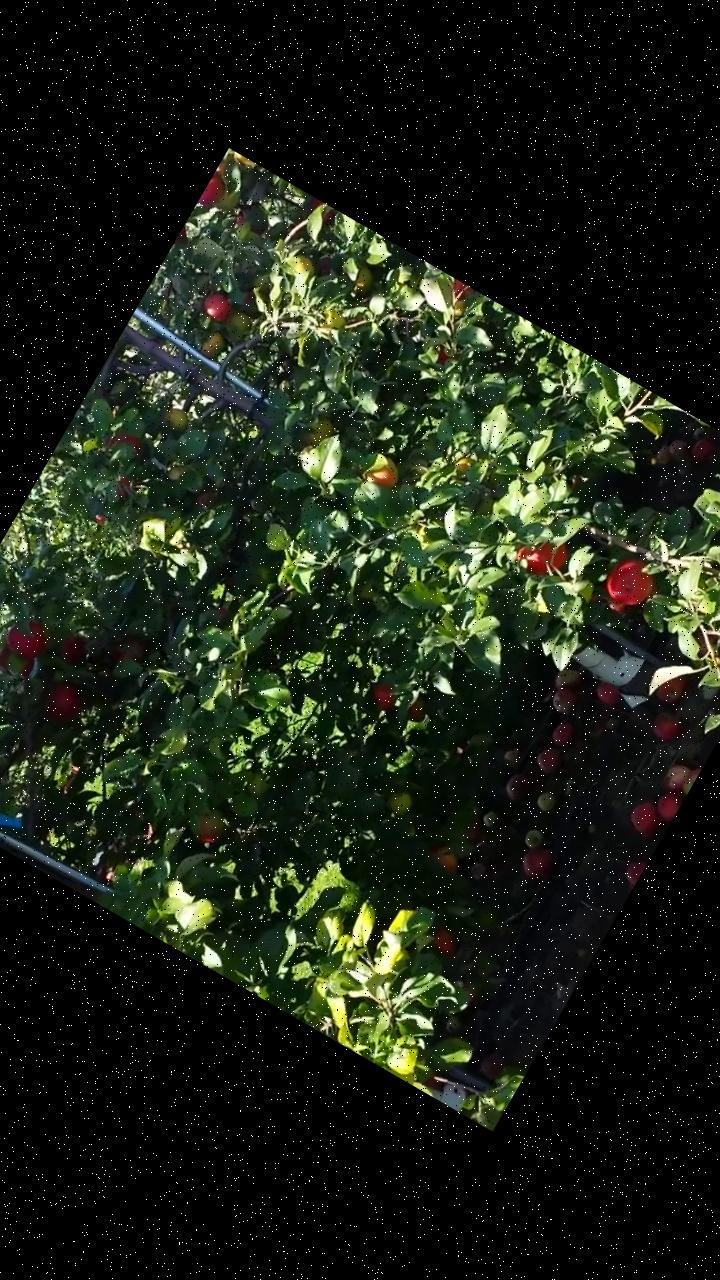Apple: (594, 546, 664, 616), (510, 524, 575, 588), (0, 612, 54, 664), (37, 677, 88, 729), (360, 449, 404, 494), (298, 411, 339, 454), (110, 635, 151, 677), (186, 813, 228, 853), (362, 672, 402, 714), (0, 643, 37, 687), (425, 924, 463, 960), (425, 840, 465, 874), (156, 400, 192, 436), (108, 426, 144, 461), (54, 629, 90, 664), (197, 170, 228, 210), (283, 248, 316, 282), (441, 277, 475, 309), (197, 288, 230, 320), (382, 784, 415, 816), (196, 327, 226, 361), (304, 198, 335, 228), (346, 263, 374, 295), (401, 694, 429, 724), (190, 480, 216, 510), (225, 309, 251, 336), (310, 252, 336, 278), (109, 474, 133, 502), (431, 344, 452, 366), (232, 211, 248, 229)
